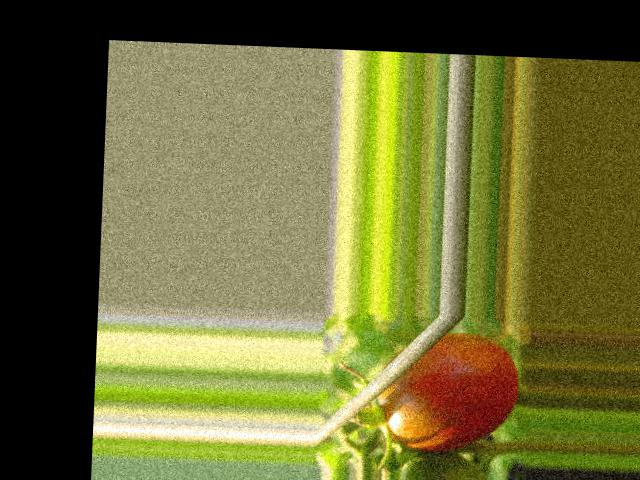tomato: (376, 331, 519, 452)
